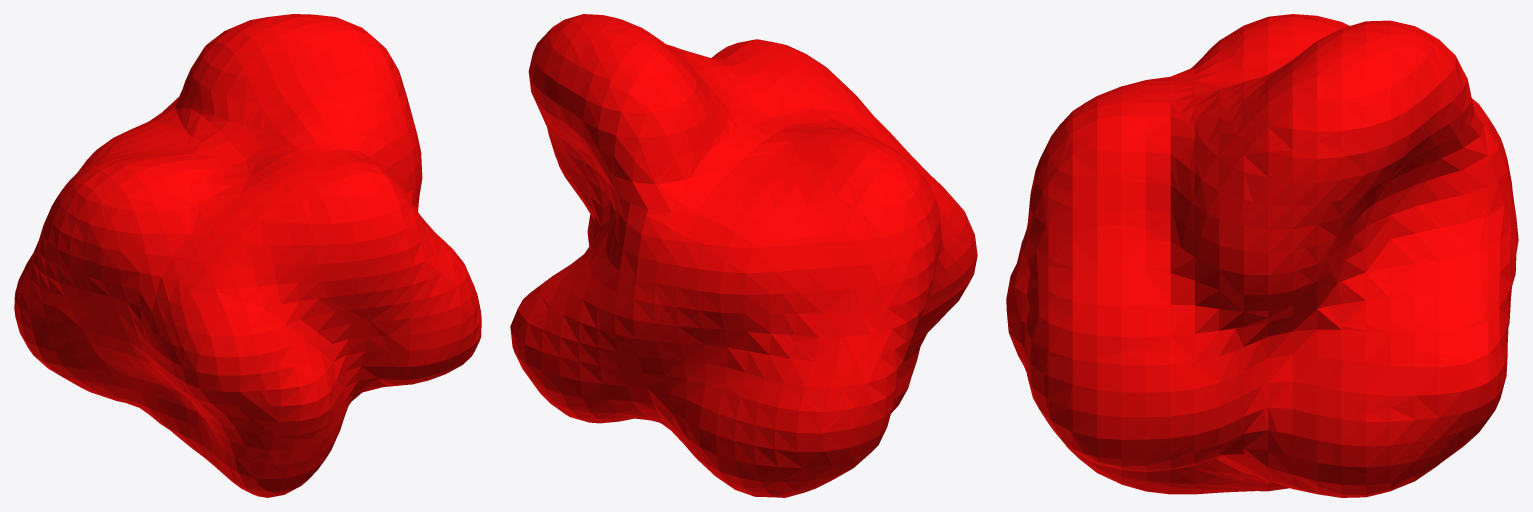
Rendered from yeaO_coarse.dae.
3 renders of one model, left to right at view 1: azimuth 30°, elevation 25°; view 2: azimuth 150°, elevation 25°; view 3: azimuth 270°, elevation 25°, orthographic. The views are drawn at different scales.
Visible parts, largest first — view 1: yeaO; view 2: yeaO; view 3: yeaO.
Part boxes in pixels (x1=…): yeaO: x1=14, y1=14, x2=481, y2=497; yeaO: x1=510, y1=14, x2=977, y2=497; yeaO: x1=1006, y1=14, x2=1518, y2=497.
Size of the model in its own units: 35.84 by 38.21 by 34.21.
